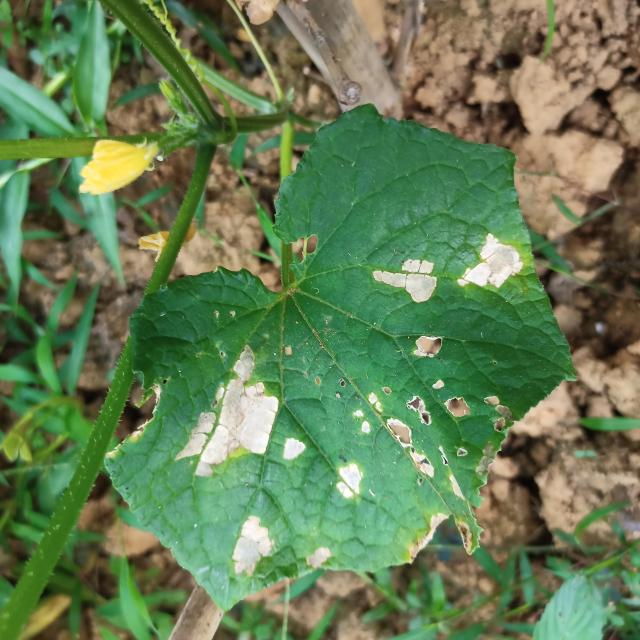disease_cucumber: (175, 353, 281, 483), (354, 388, 442, 481), (282, 431, 370, 503), (457, 227, 523, 301), (371, 250, 441, 308), (218, 515, 278, 578)
